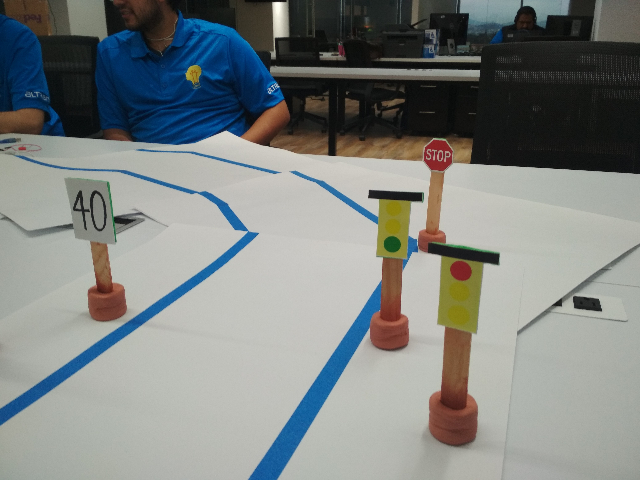Green Traffic Light: (363, 186, 424, 258)
Red Traffic Light: (428, 240, 503, 334)
Speed Limit 40: (64, 176, 117, 243)
Stop Sign: (419, 136, 455, 174)
